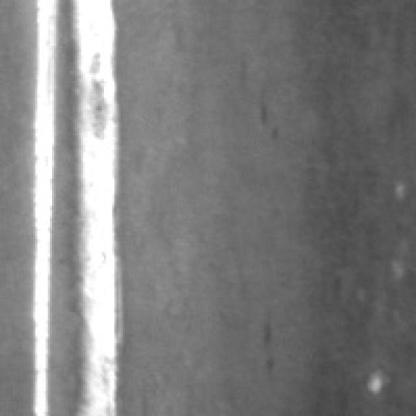inclusion: (254, 314, 278, 372)
scratches: (66, 0, 122, 412), (27, 0, 56, 412)
